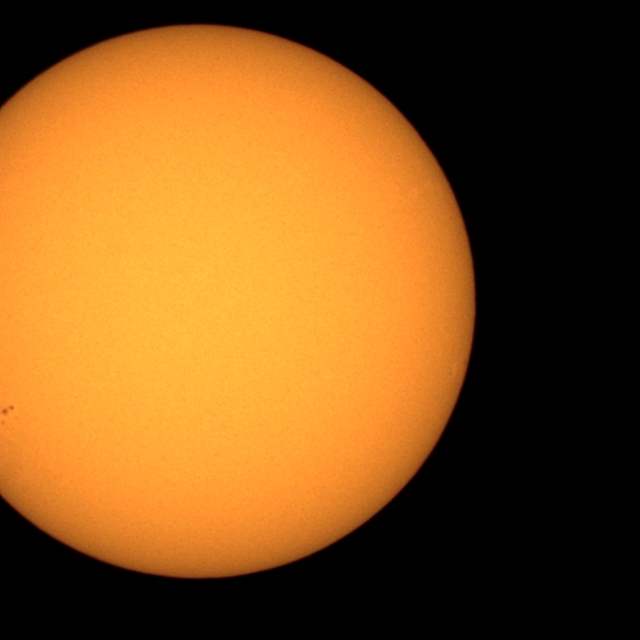sunspot: (0, 404, 15, 421)
